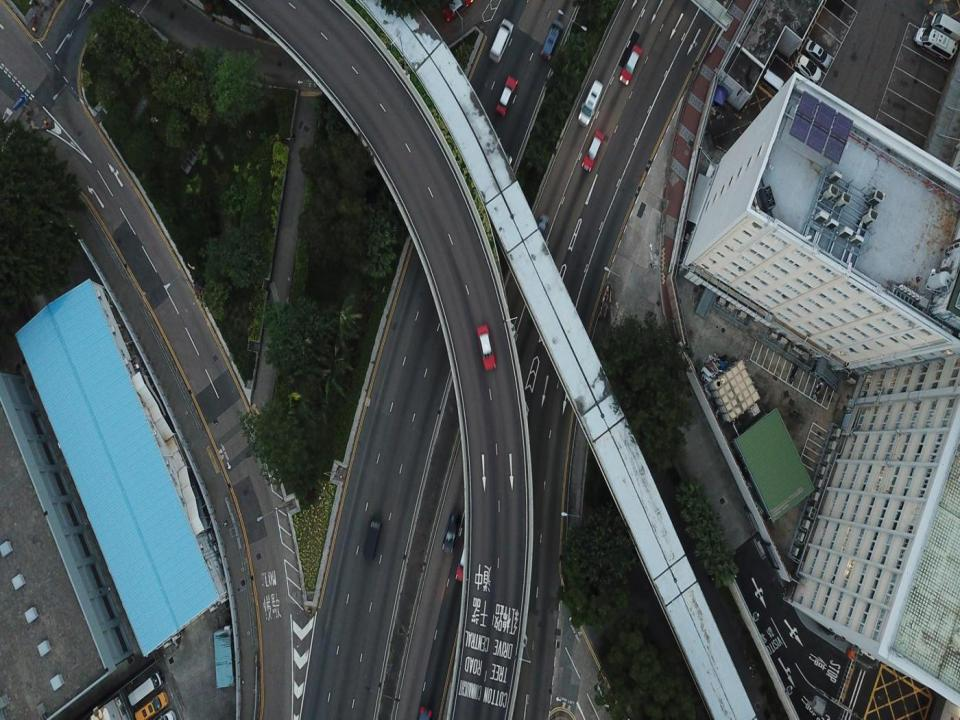car: (494, 76, 518, 117), (618, 46, 642, 85), (582, 130, 604, 172), (478, 323, 497, 371), (805, 38, 833, 68), (795, 53, 822, 80), (438, 1, 476, 20), (533, 213, 550, 250), (457, 548, 474, 581)
van: (916, 24, 957, 63), (127, 672, 164, 704), (578, 80, 603, 124), (490, 16, 513, 63), (133, 690, 170, 719), (442, 508, 464, 552), (542, 21, 562, 63), (364, 516, 382, 558), (930, 11, 960, 36), (141, 708, 178, 719)
